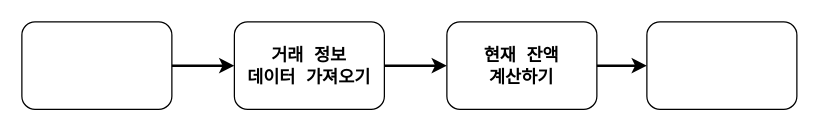
Some shapes in this 819 by 131 pixel diagram are drawn without their labels. The shapes that lost their labels are listed below. From the top down, each one's centre as x and y in pixels, then its label:
At point (96, 65): "고객 데이터 가져오기".
At point (721, 65): "월별 고객 거래명세서 생성하기".
